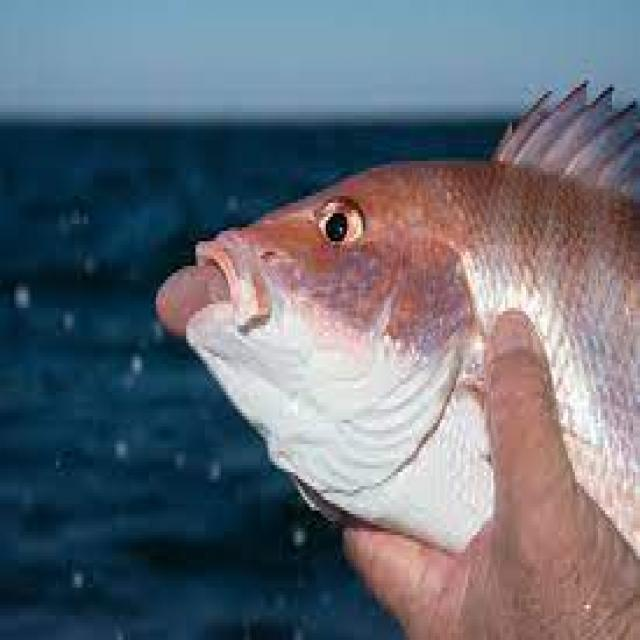northern-red-snapper: (144, 73, 640, 640)
